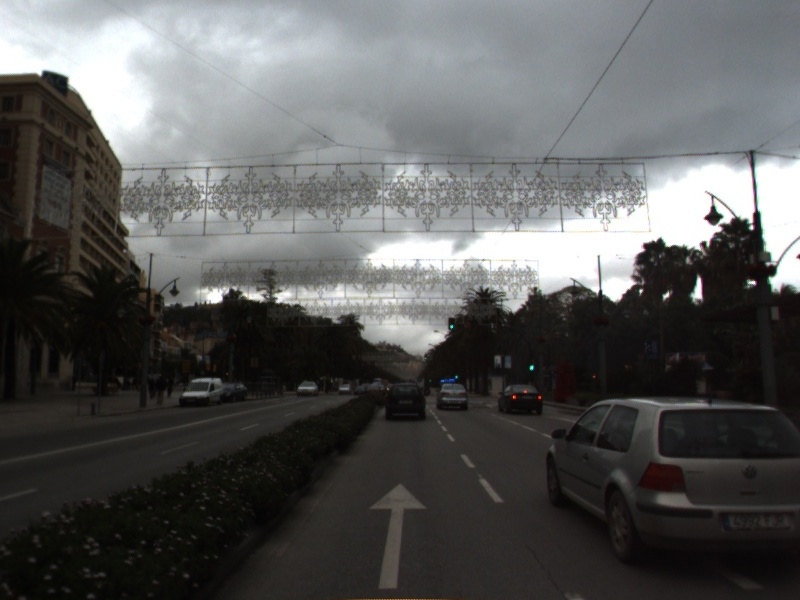STRAIGHT: (365, 481, 430, 590)
